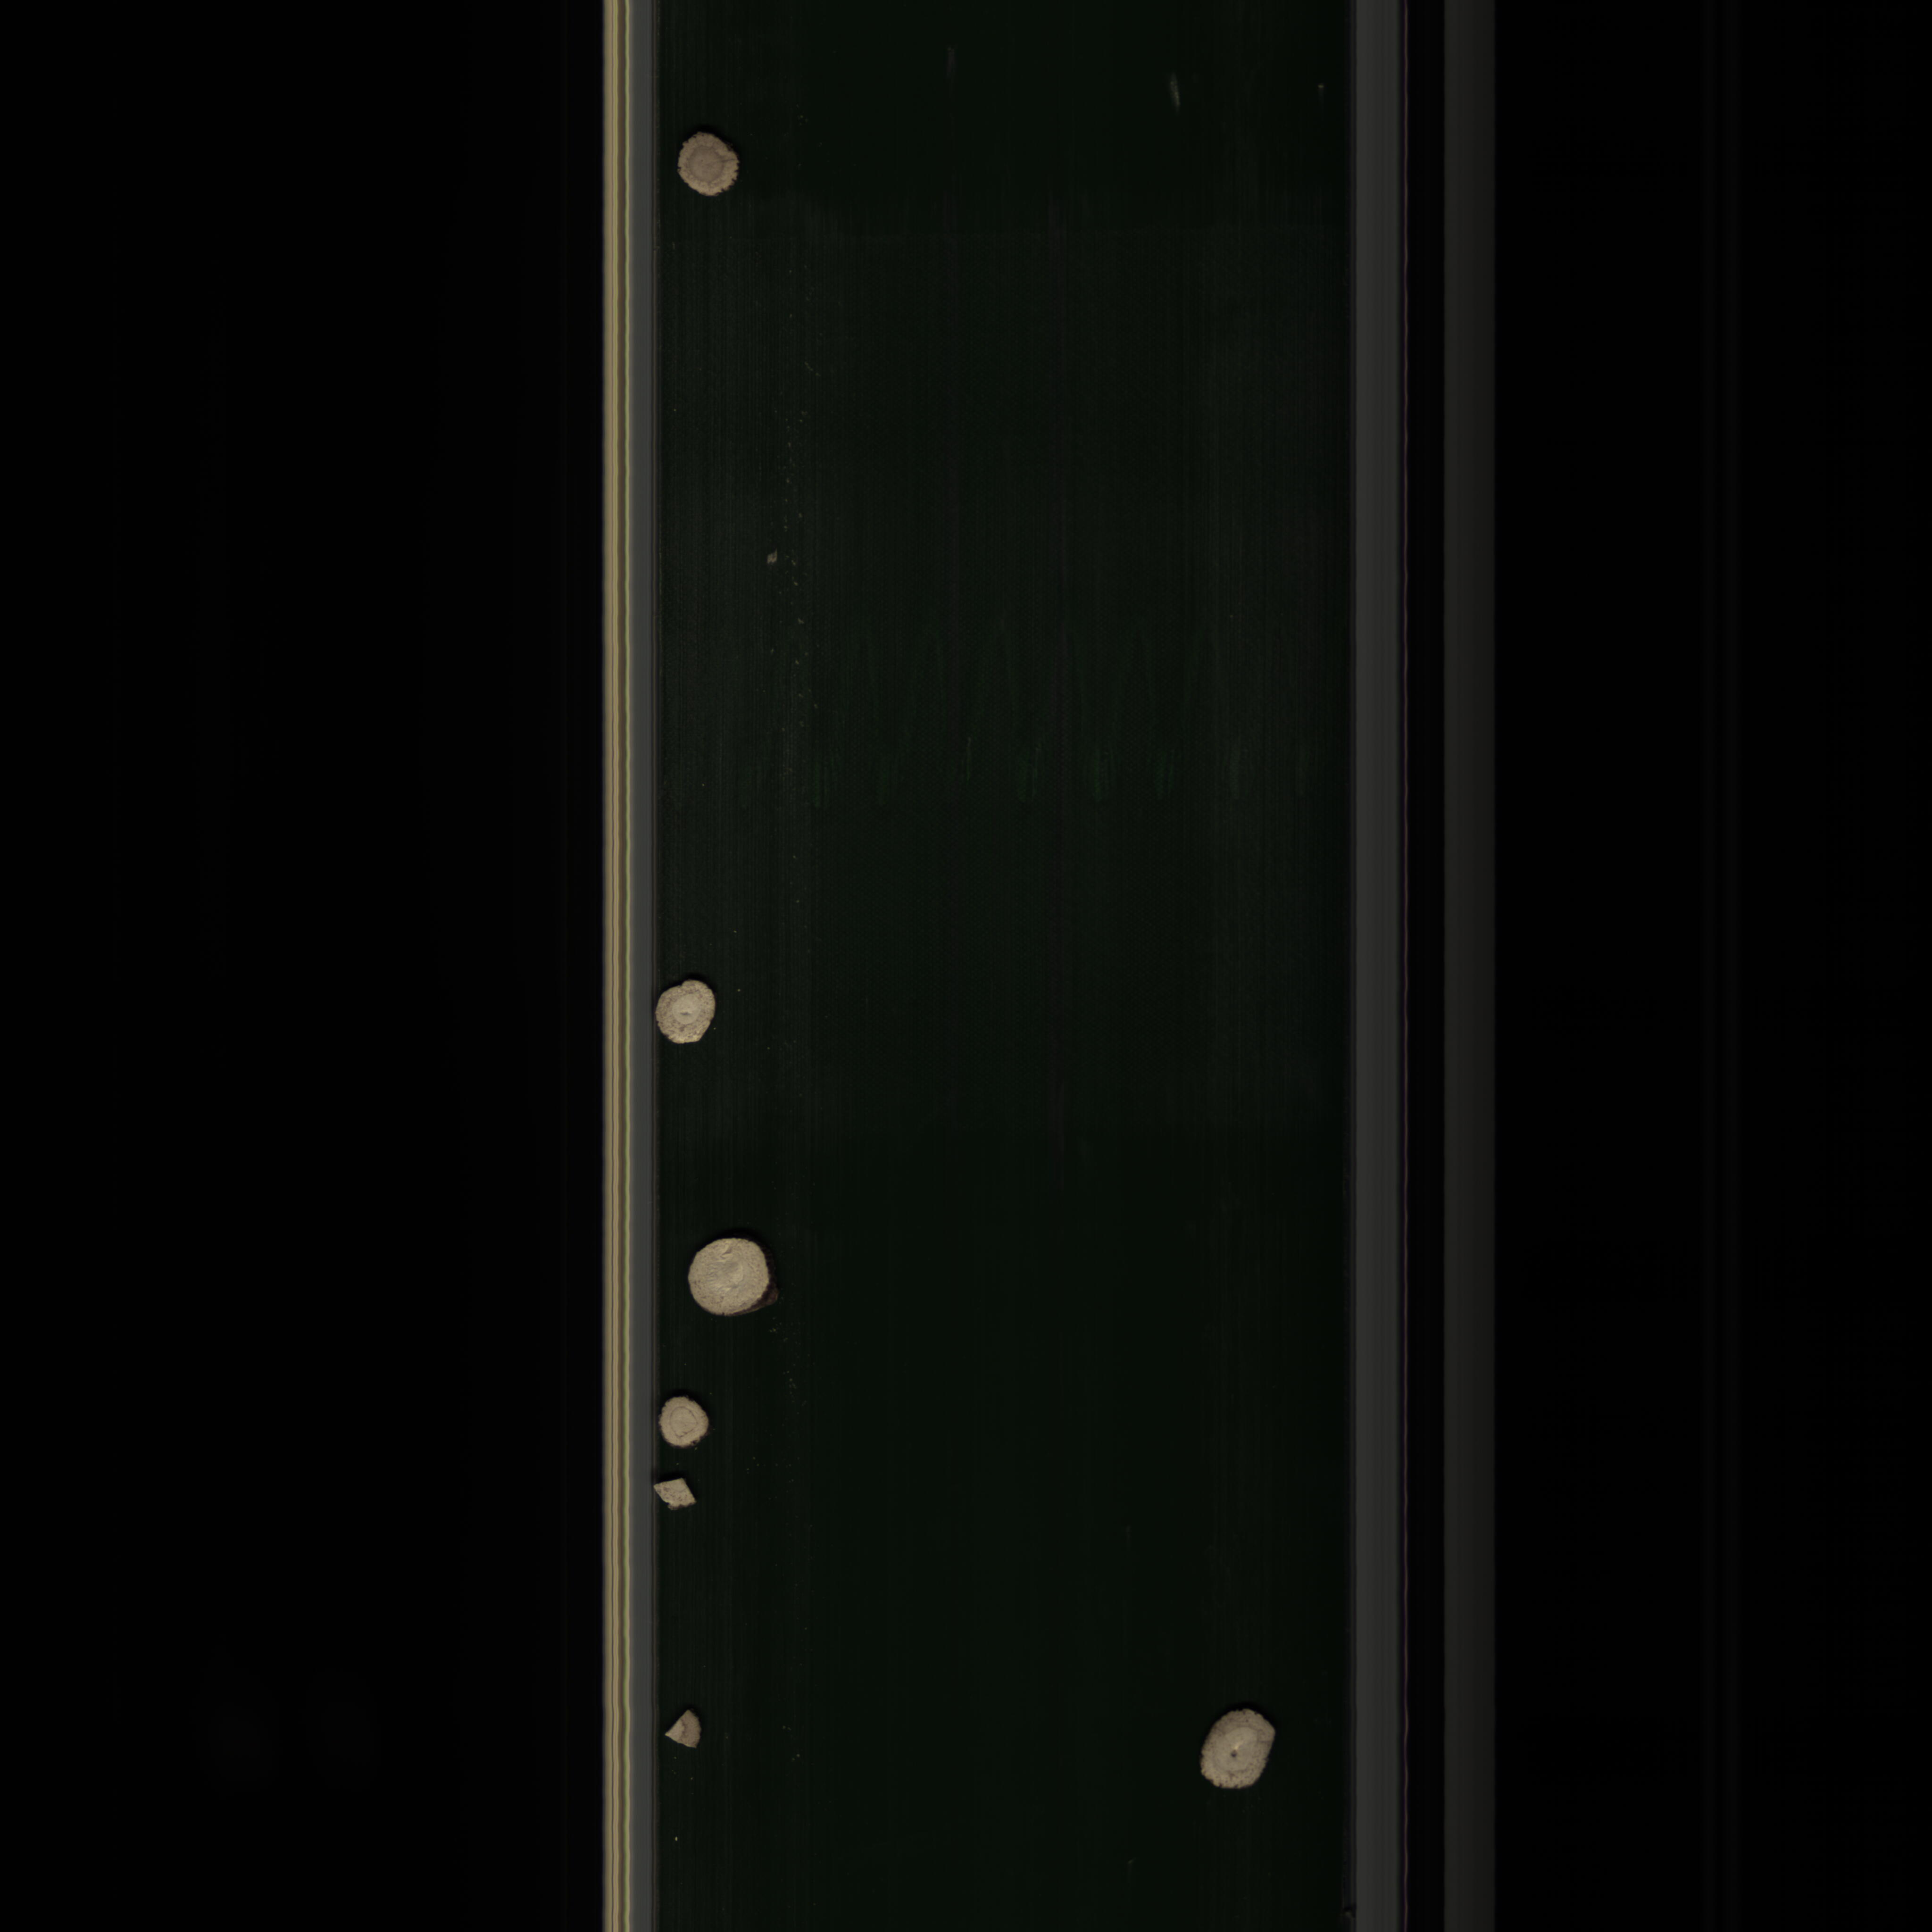debris: (658, 1702, 713, 1752), (648, 1472, 701, 1520)
moldy: (669, 129, 752, 205)
